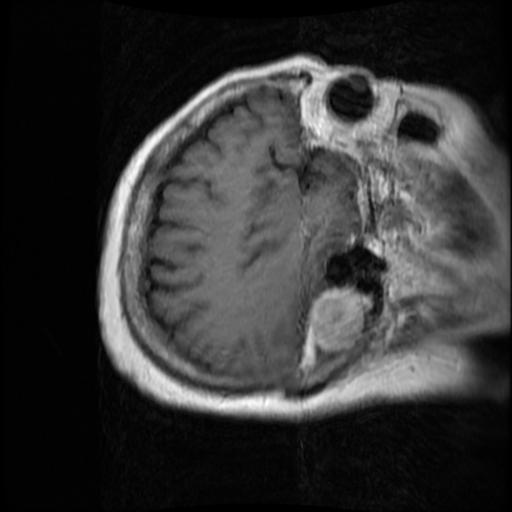meningioma: (307, 286, 374, 353)
